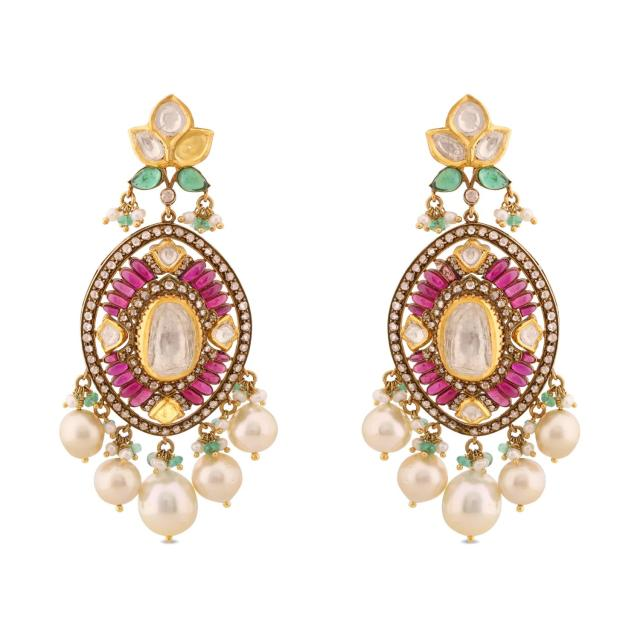missing gem: (176, 135, 208, 160), (434, 260, 459, 282), (155, 403, 178, 423)
